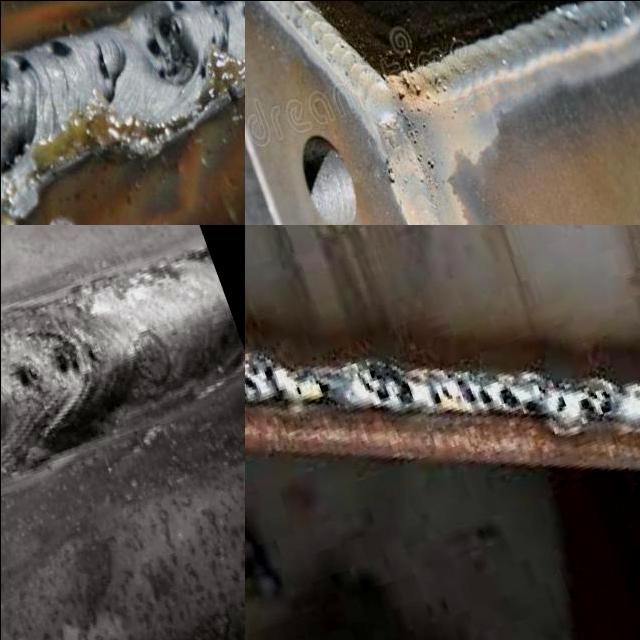defect: (142, 0, 213, 89), (393, 71, 462, 145), (43, 323, 107, 387), (357, 357, 417, 411), (6, 349, 49, 405), (427, 380, 495, 414), (572, 377, 618, 423), (86, 40, 117, 107), (493, 385, 544, 416), (0, 130, 31, 176), (244, 359, 279, 398), (46, 31, 77, 63), (382, 150, 400, 192), (12, 52, 35, 80), (308, 373, 333, 398), (413, 151, 437, 170), (551, 391, 569, 416), (0, 72, 15, 95), (294, 383, 304, 397)
